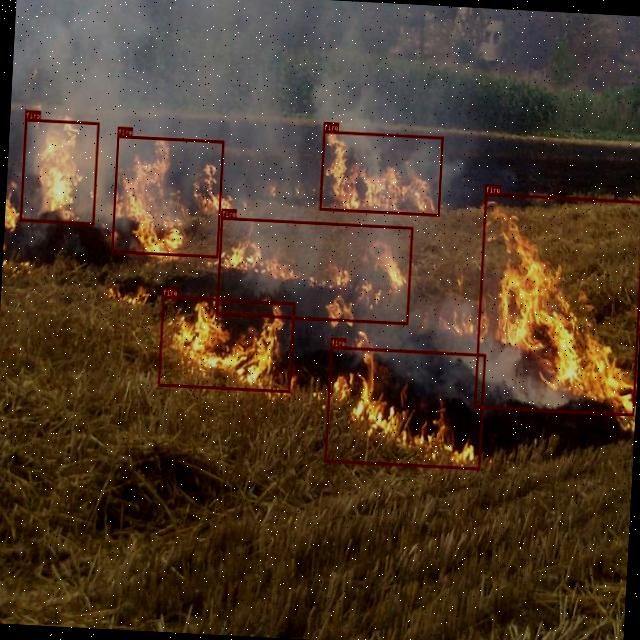fire: (473, 193, 640, 416), (215, 216, 412, 324), (324, 346, 486, 469), (111, 135, 224, 258), (157, 295, 295, 392), (320, 130, 444, 216), (20, 118, 99, 225)
